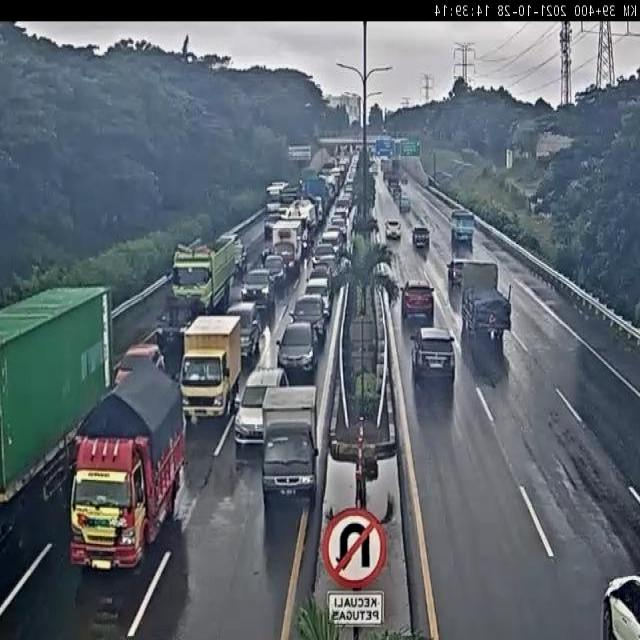Car: (233, 366, 286, 449), (410, 328, 456, 386), (276, 321, 318, 377), (227, 300, 265, 356), (290, 295, 331, 339), (400, 280, 435, 322), (241, 270, 276, 310), (304, 278, 332, 316), (264, 256, 288, 286), (447, 258, 468, 290), (262, 213, 281, 239), (412, 226, 431, 249), (384, 220, 402, 240), (308, 266, 330, 282), (333, 274, 339, 276)
Truck: (0, 277, 113, 547), (69, 365, 184, 576), (262, 384, 320, 508), (182, 314, 243, 423), (170, 230, 233, 318), (460, 259, 512, 341), (601, 572, 640, 640), (271, 218, 304, 270), (287, 198, 319, 230), (449, 207, 474, 245), (266, 180, 288, 211), (282, 187, 299, 209)
